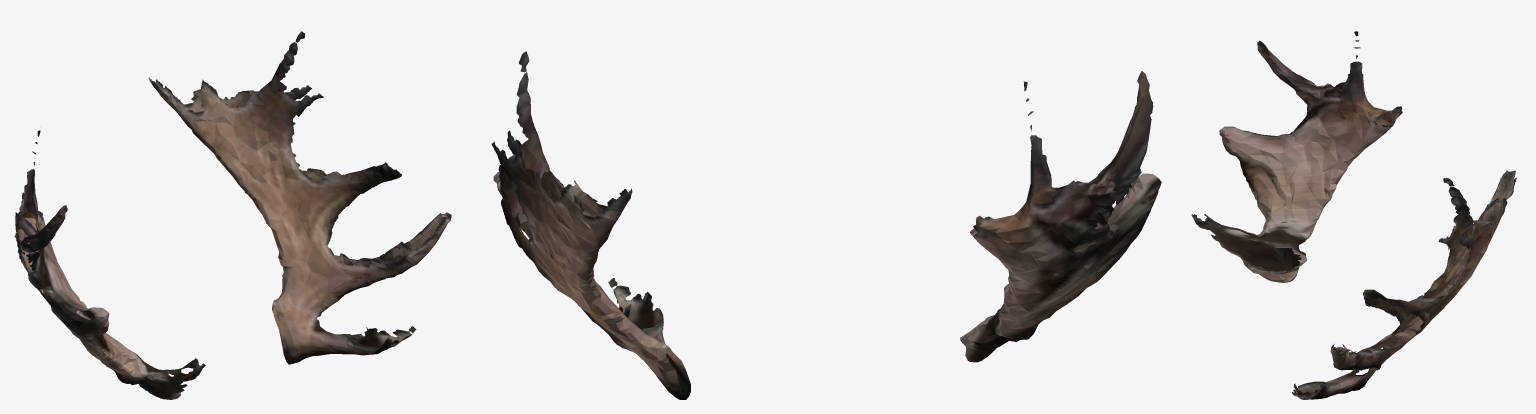
File: elkantlers.glb
The picture shows the model from 3 angles, left to right: view 1: azimuth 30°, elevation 25°; view 2: azimuth 150°, elevation 25°; view 3: azimuth 270°, elevation 25°; orthographic projection. The views are drawn at different scales.
Visible parts, largest first — view 1: geometry_0; view 2: geometry_0; view 3: geometry_0.
Part boxes in pixels (x1,y1,x2,y2): geometry_0: [14, 31, 451, 399]; geometry_0: [491, 51, 1161, 399]; geometry_0: [1191, 31, 1516, 399].
Size of the model in its own units: 1.04 by 0.6916 by 0.773.
Materials: 1 (1 with a texture image).
